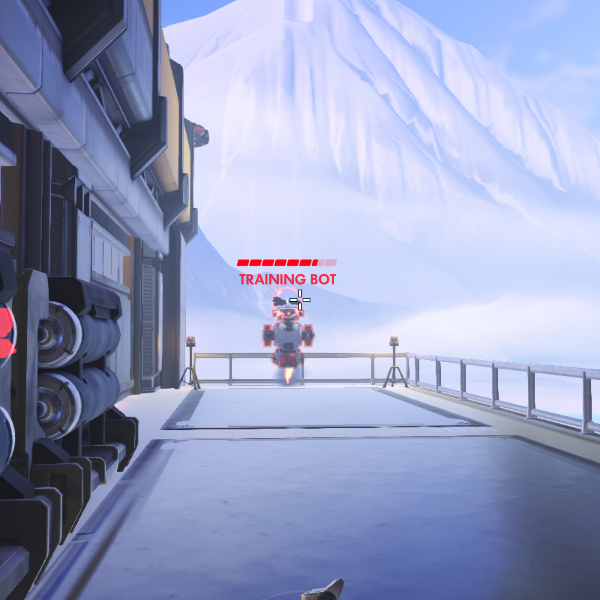hpbar: (237, 259, 337, 266)
